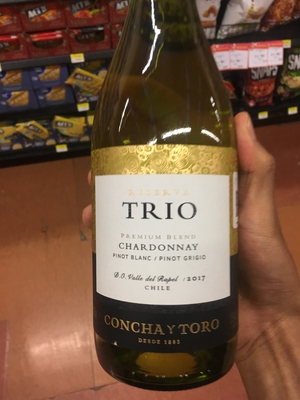trio chardonnay: (80, 7, 249, 377)
